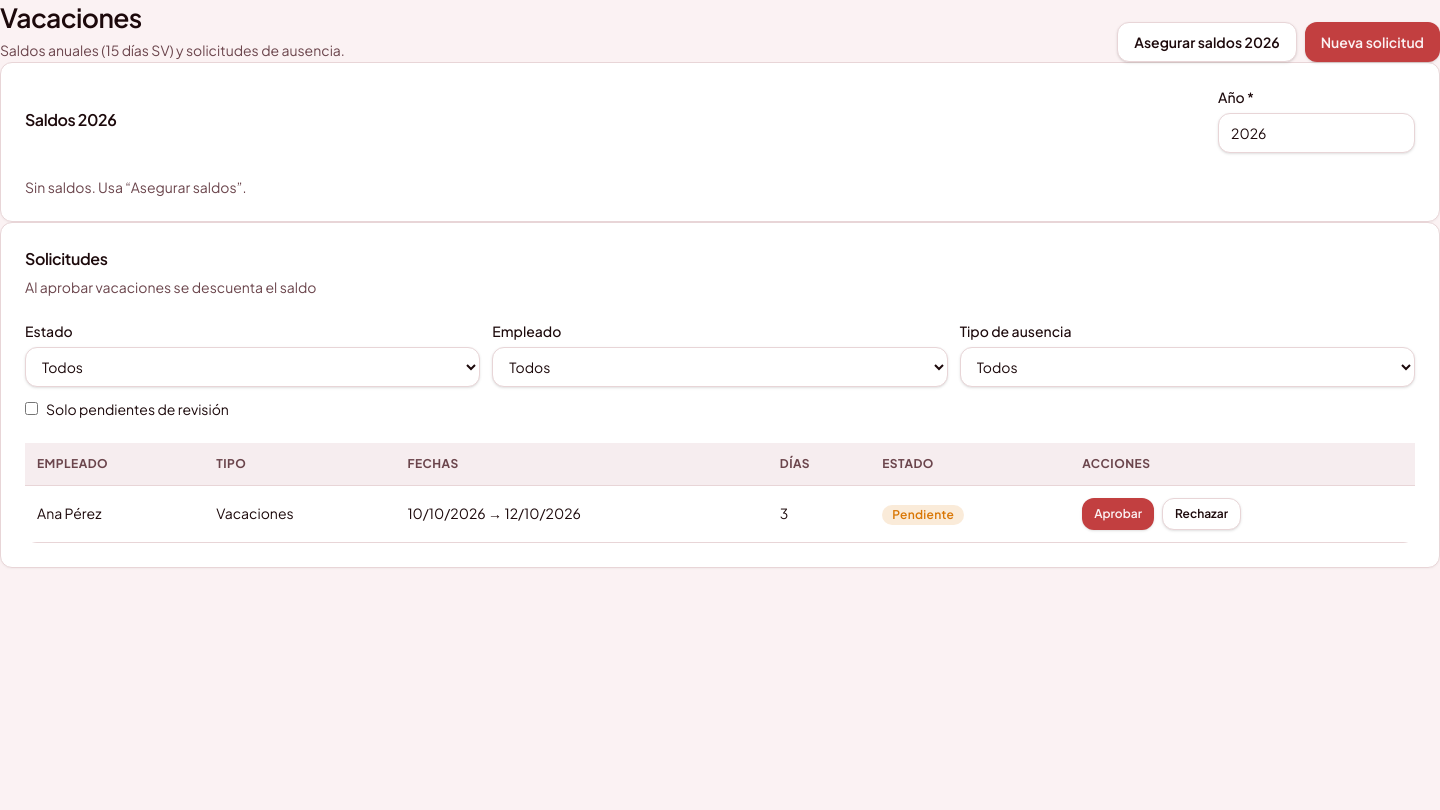
actualización de solicitudes de vacaciones › refresca la solicitud tras un 409 al rechazar, muestra el error y bloquea el reintento
The image size is (1440, 810).
Click the button "Rechazar" at (1202, 514), box top-left (1162, 498), bottom-right (1241, 530)
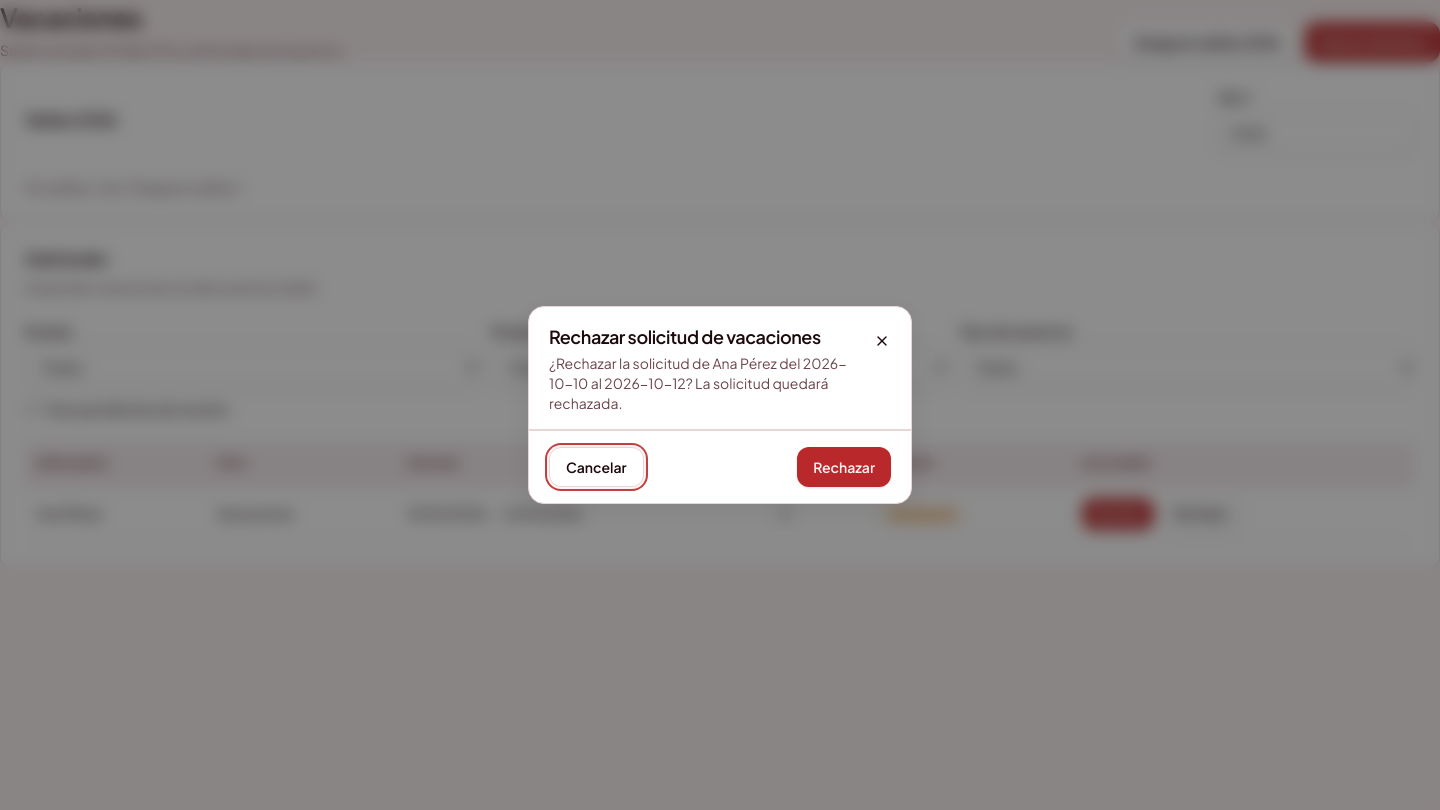
Click the button "Rechazar" at (844, 467), box top-left (797, 447), bottom-right (891, 487)
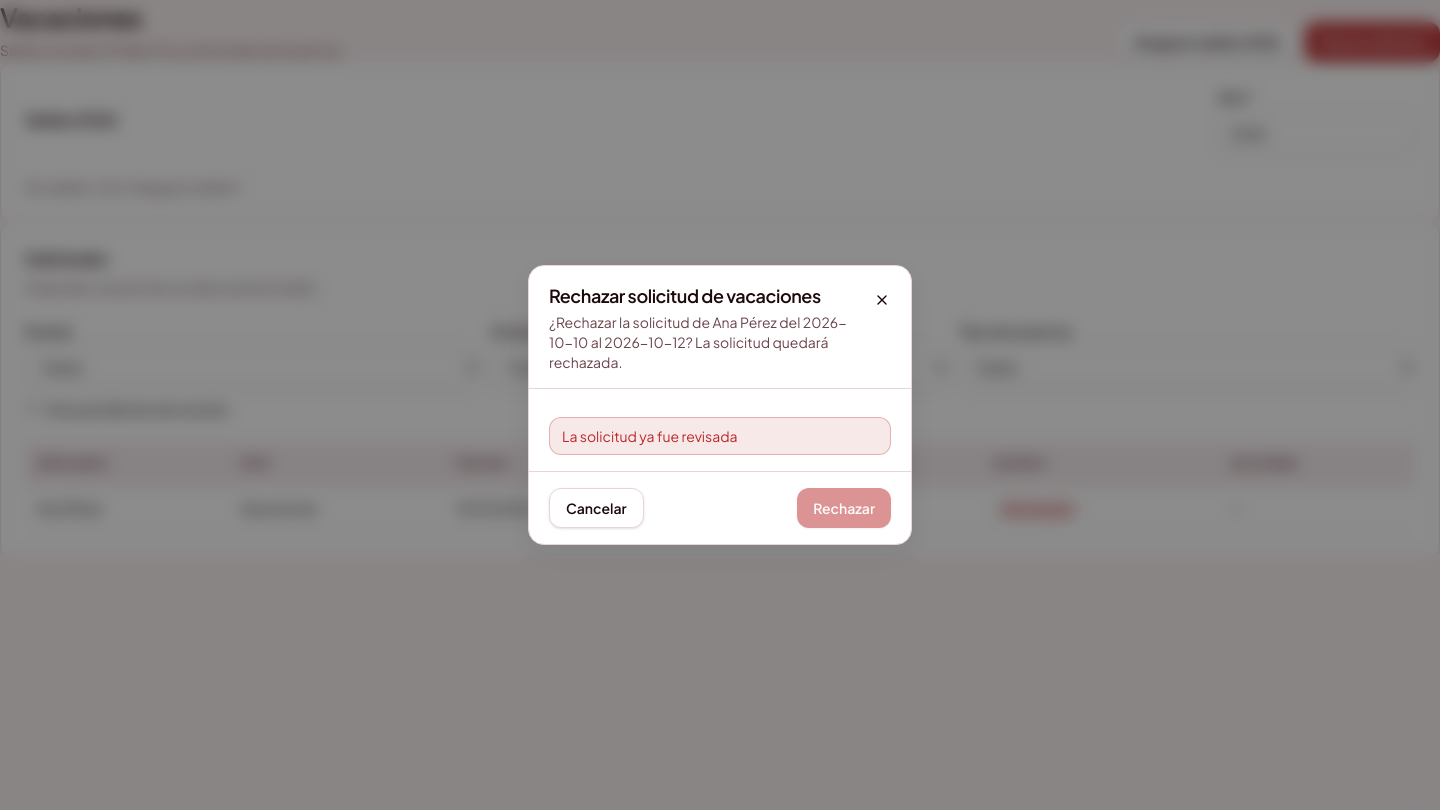
Check: the dialog is shown, box top-left (528, 265), bottom-right (912, 545)
Check: the message reads "La solicitud ya fue revisada", box top-left (562, 427), bottom-right (738, 445)
Check: the button "Rechazar" is disabled, box top-left (797, 488), bottom-right (891, 528)
